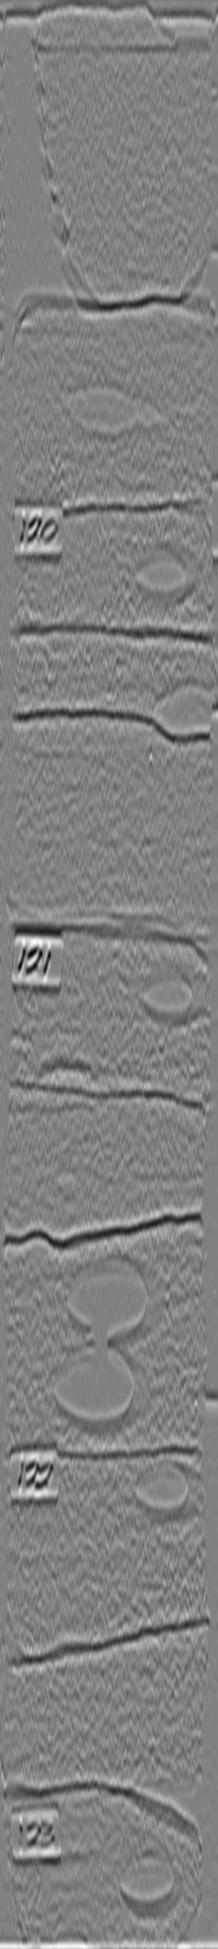hplug: (122, 537, 211, 613), (128, 953, 208, 1030), (126, 1453, 202, 1523), (116, 1847, 186, 1923)
scal: (60, 1243, 172, 1345), (44, 1345, 154, 1439)
vplug: (26, 933, 112, 1093), (34, 501, 115, 635), (24, 1843, 110, 1949)
